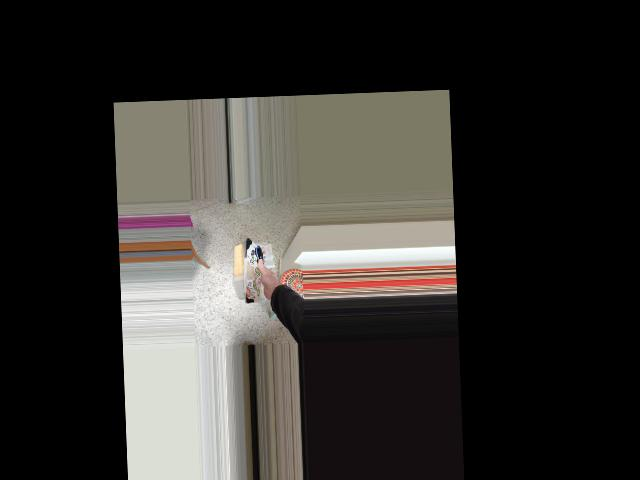cheese: (214, 234, 281, 312)
